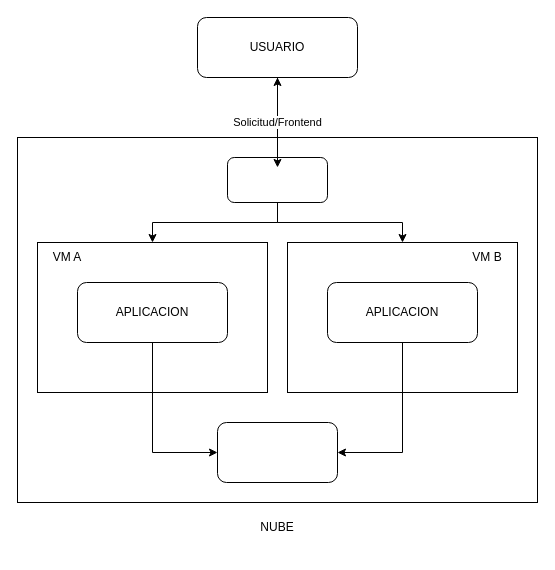
This 555x570 diagram has some shape labels left out. Each missing label, with the box of its shape:
Balanceo de carga: (226, 156, 328, 202)
BASE DE DATOS: (216, 422, 338, 482)
